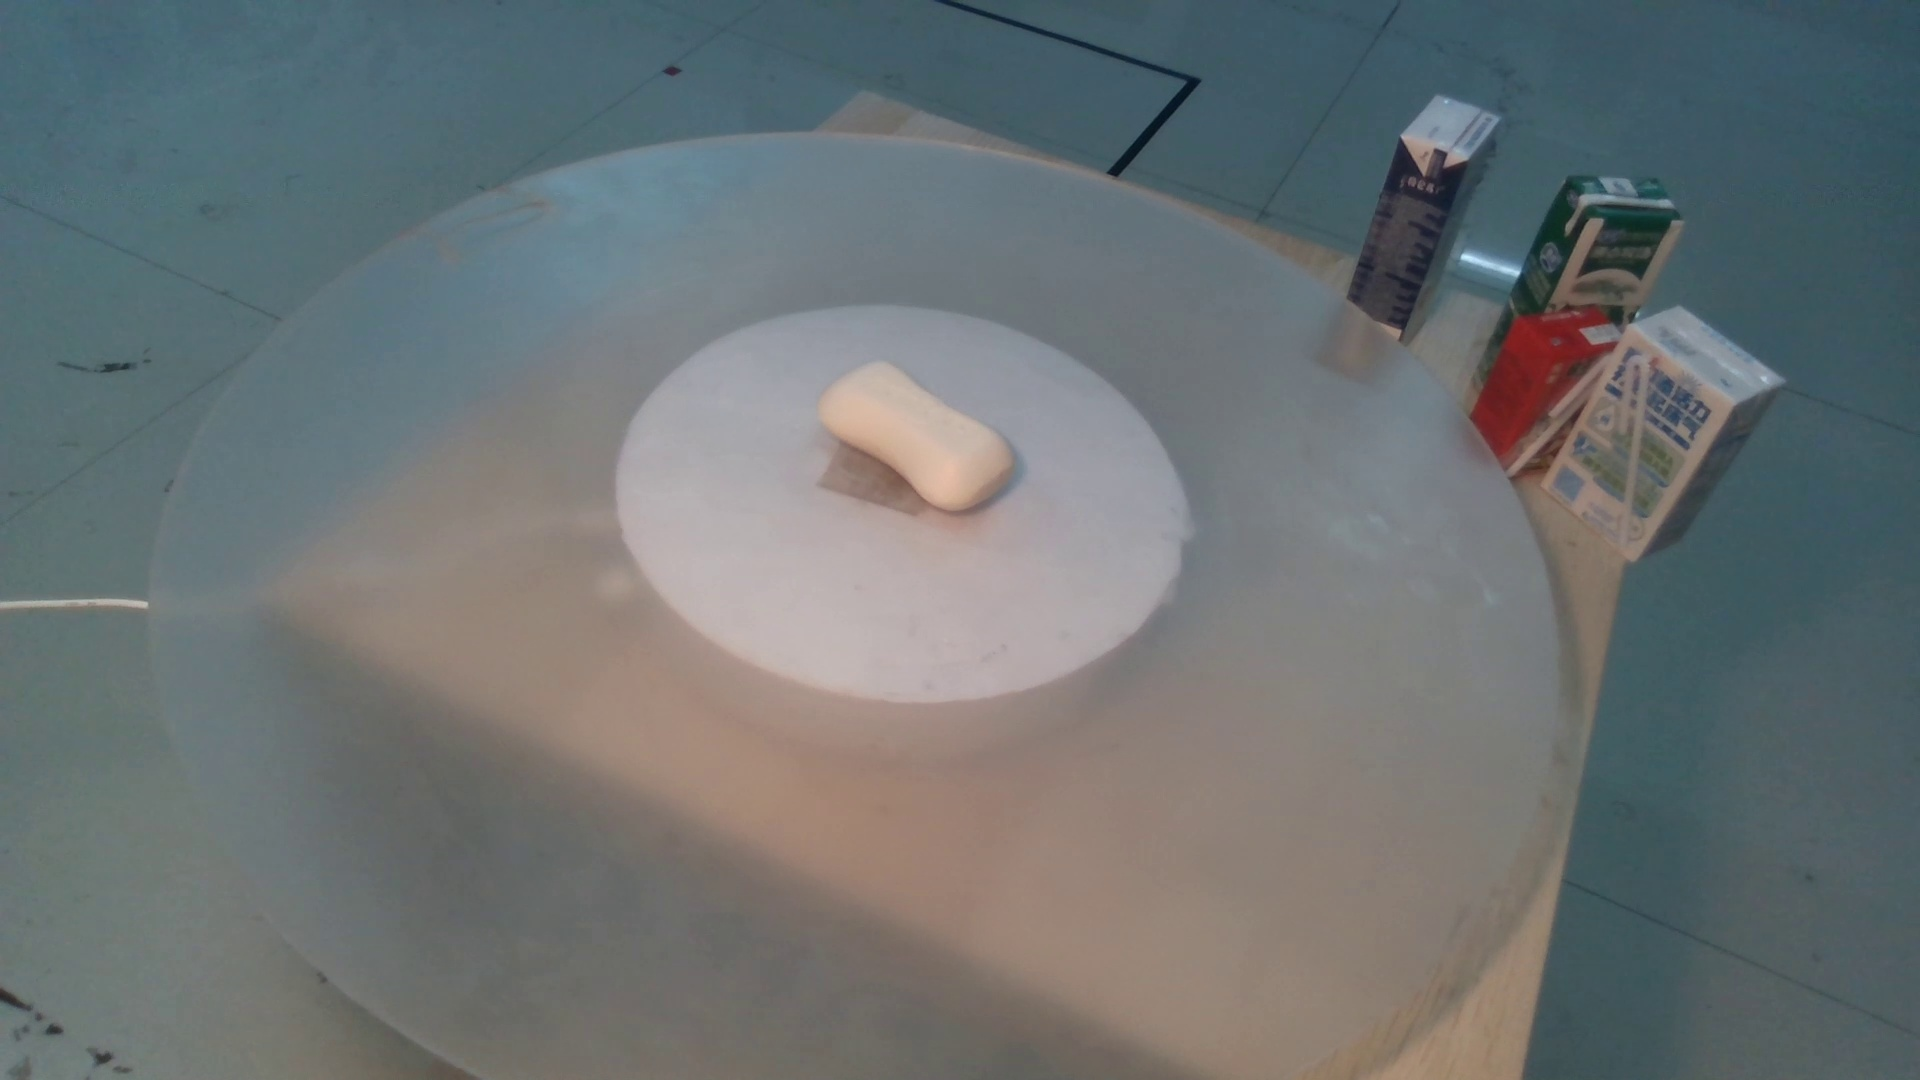CA003_1: (819, 344, 1040, 509)
